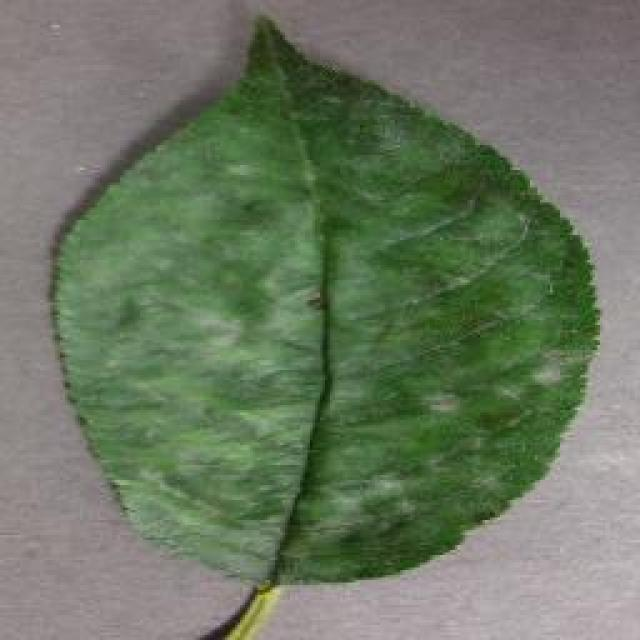Cherry___Powdery_mildew: (35, 2, 613, 640)
